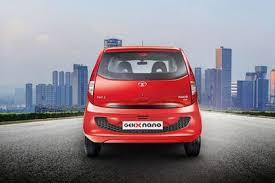Nano: (84, 46, 204, 159)
